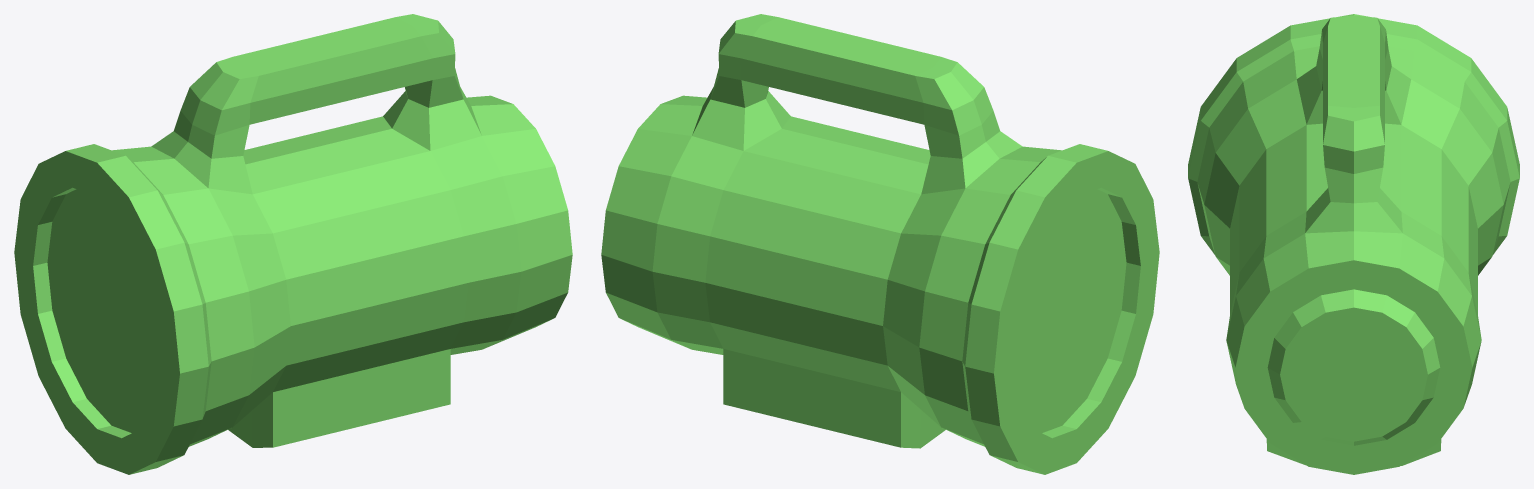
The model's file is SM_Flashlight.fbx.
3 renders of one model, left to right at view 1: azimuth 30°, elevation 25°; view 2: azimuth 150°, elevation 25°; view 3: azimuth 270°, elevation 25°, orthographic.
Parts seen in each view (by area): view 1: Flashlight; view 2: Flashlight; view 3: Flashlight.
Boxes of the visible parts, bbox=[...] form: Flashlight: bbox=[14, 14, 572, 474]; Flashlight: bbox=[601, 14, 1159, 474]; Flashlight: bbox=[1188, 14, 1519, 474].
Size of the model in its own units: 1.14 by 0.9118 by 0.7597.
